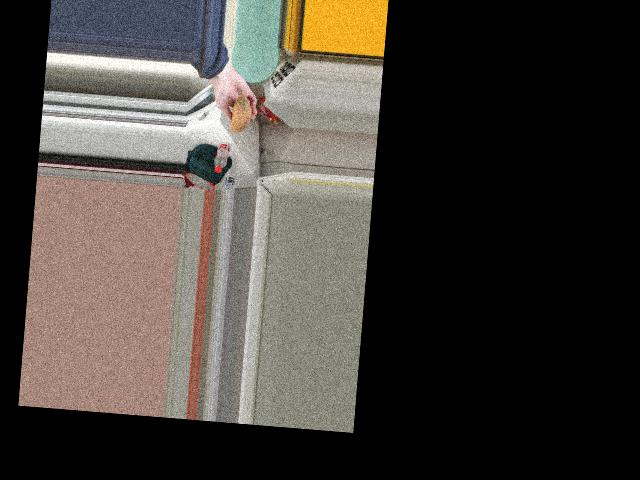sweet_potato: (227, 88, 250, 136)
